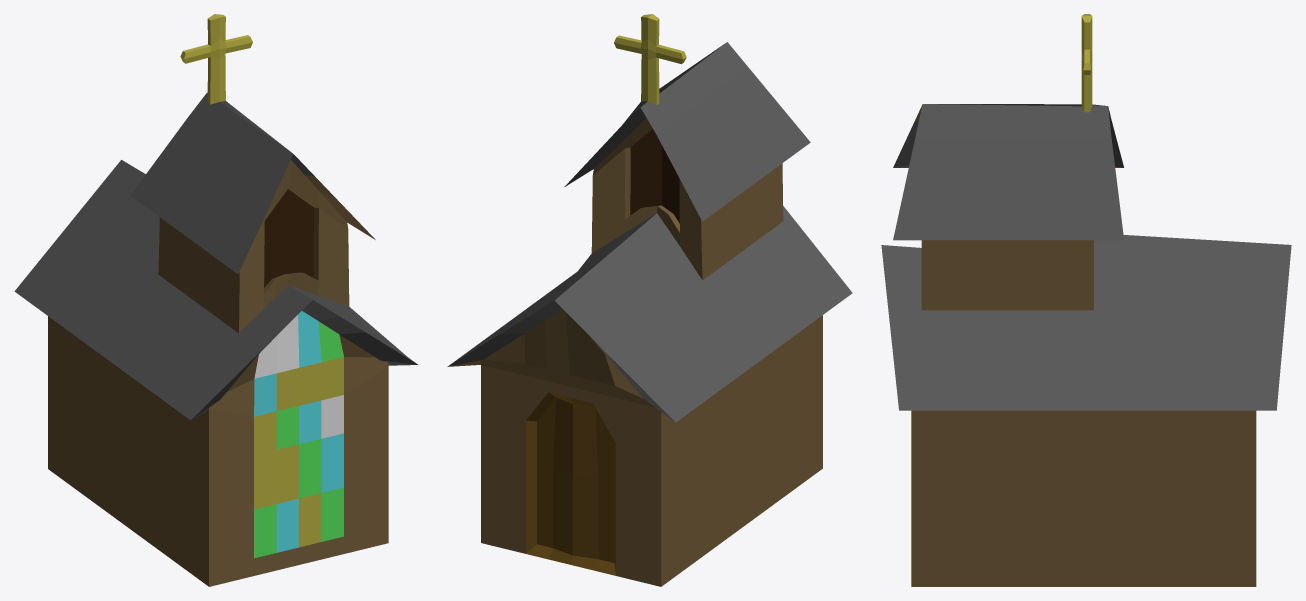
File: PaladinTower.fbx
3 views of the same model, side by side, from view 1: azimuth 30°, elevation 25°; view 2: azimuth 150°, elevation 25°; view 3: azimuth 270°, elevation 25° (orthographic). The views are drawn at different scales.
Parts seen in each view (by area): view 1: Cube; view 2: Cube; view 3: Cube.
Boxes of the visible parts, <box> form: Cube: <box>14,14,417,586</box>; Cube: <box>447,14,852,586</box>; Cube: <box>881,14,1291,586</box>.
Bounding box in the file's own units: 8.17 × 11.9 × 16.76.
